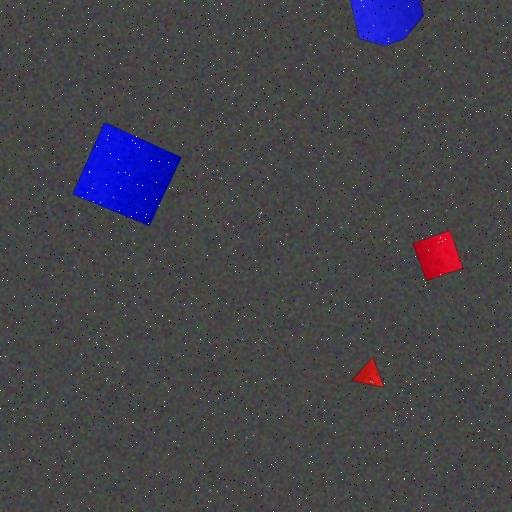BLUE_SQUARE: (72, 122, 182, 226)
RED_SQUARE: (412, 230, 464, 282)
